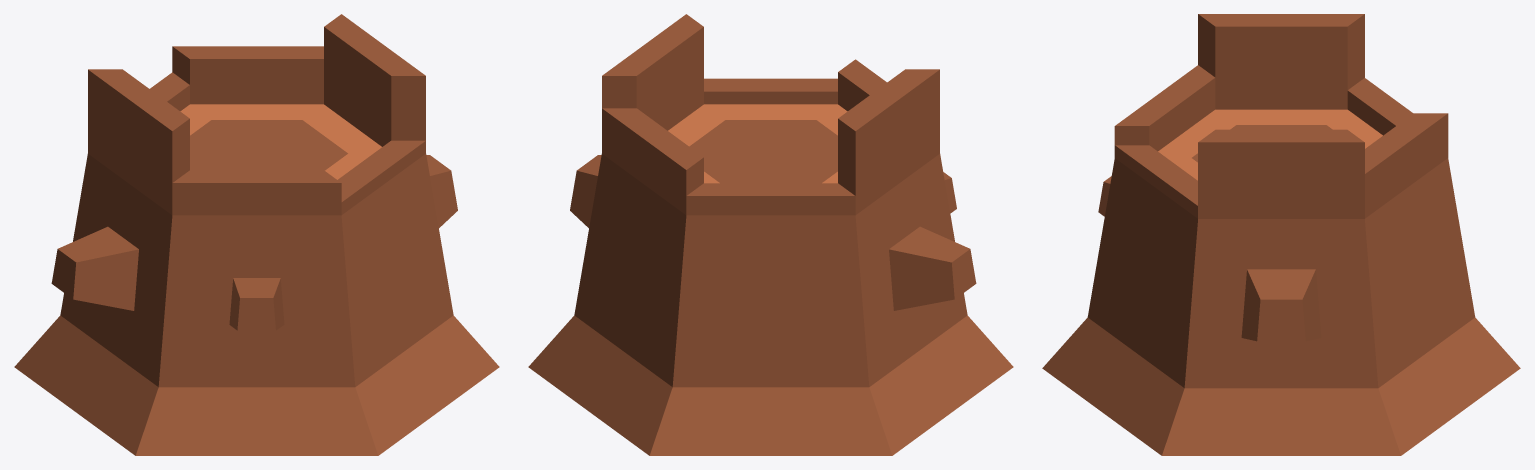
File: trunk.obj
The picture shows the model from 3 angles, left to right: view 1: azimuth 30°, elevation 25°; view 2: azimuth 150°, elevation 25°; view 3: azimuth 270°, elevation 25°; orthographic projection.
Visible parts, largest first — view 1: trunk; view 2: trunk; view 3: trunk.
Boxes of the visible parts, box(x1,y1,x2,y2) form: trunk: box(14, 14, 499, 455); trunk: box(528, 14, 1013, 455); trunk: box(1042, 14, 1520, 455).
Bounding box in the file's own units: 0.5021 × 0.3726 × 0.5508.
